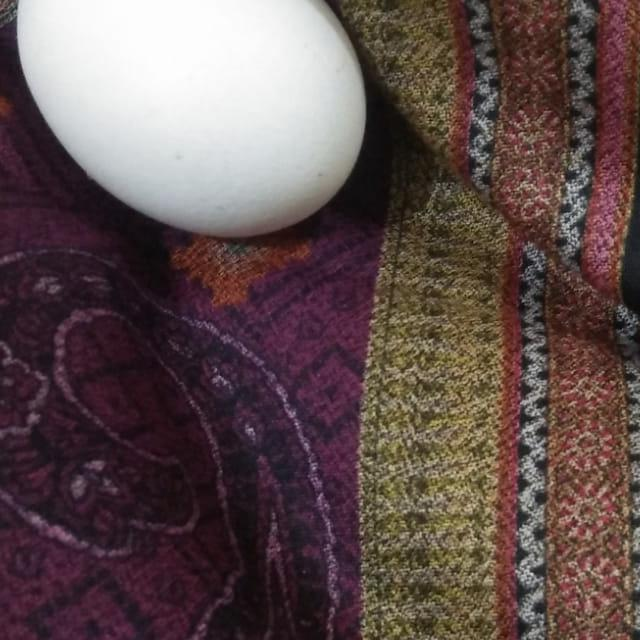egg: (11, 0, 370, 241)
